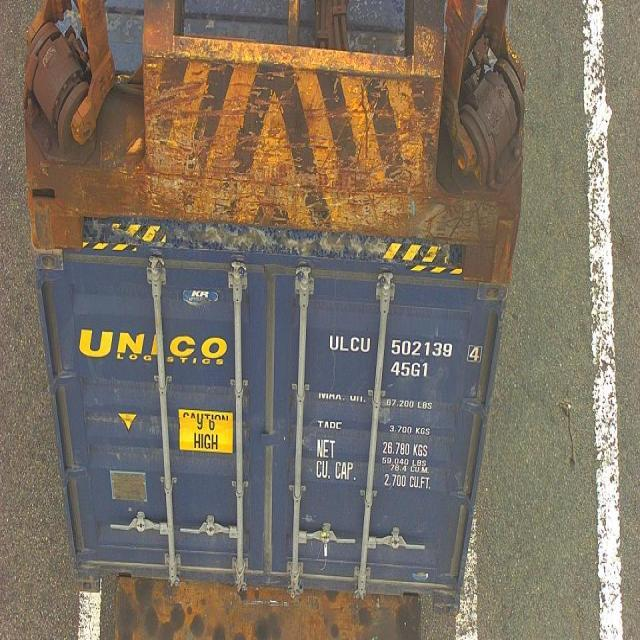ISO: (390, 362, 430, 378)
container_number: (327, 330, 481, 362)
